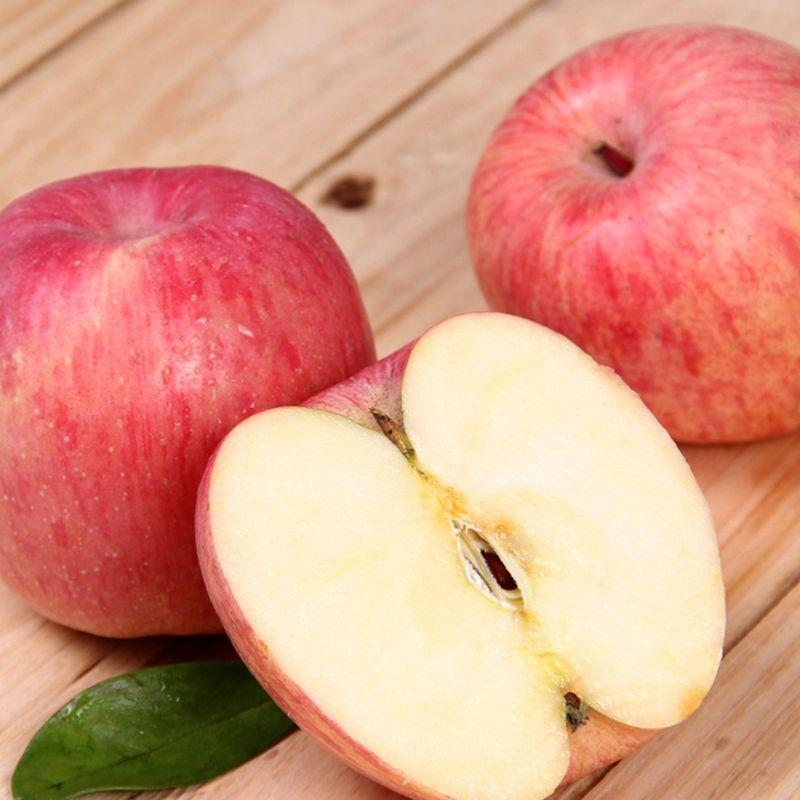apple: (197, 312, 730, 800), (1, 167, 374, 651), (462, 21, 800, 448)
